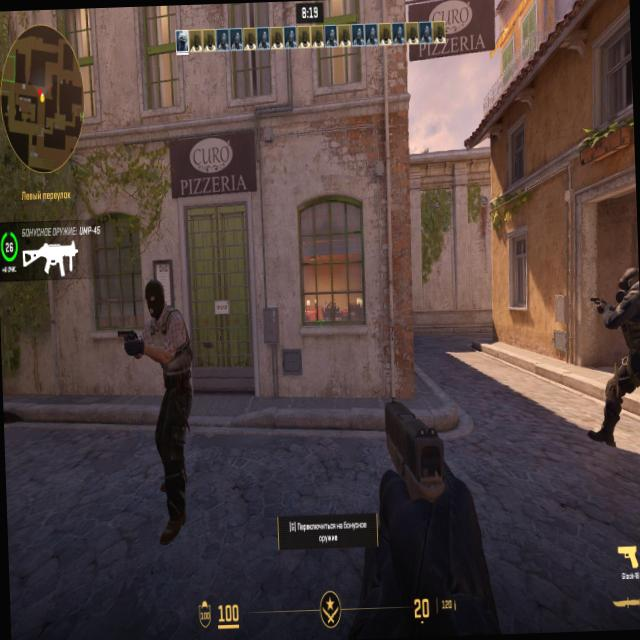CT: (616, 268, 640, 399)
CT_heat: (622, 274, 633, 297)
T: (152, 288, 186, 451)
T_heat: (147, 290, 164, 320)
